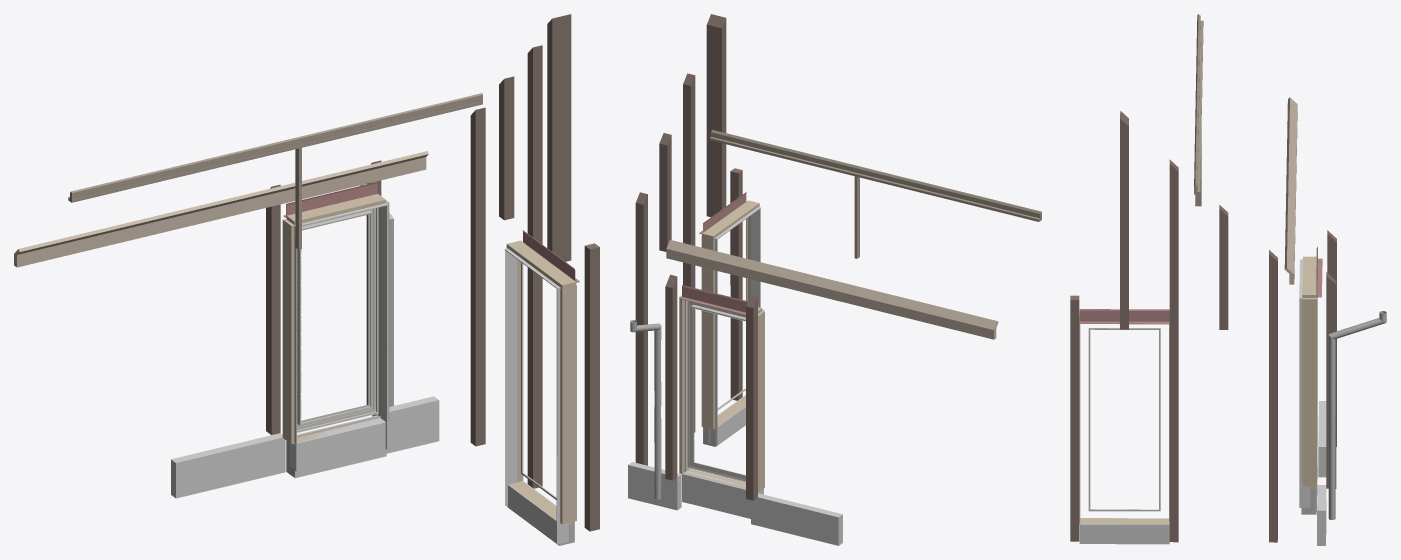
The picture shows the model from 3 angles, left to right: view 1: azimuth 30°, elevation 25°; view 2: azimuth 150°, elevation 25°; view 3: azimuth 270°, elevation 25°; orthographic projection. The views are drawn at different scales.
Bounding box in the file's own units: 5.06 × 5.38 × 3.54.
